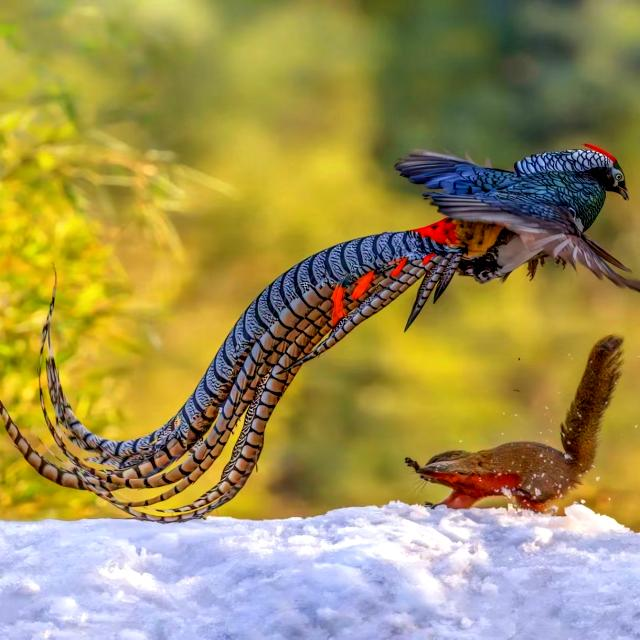Chrysolophus amherstiae: (46, 229, 470, 521)
